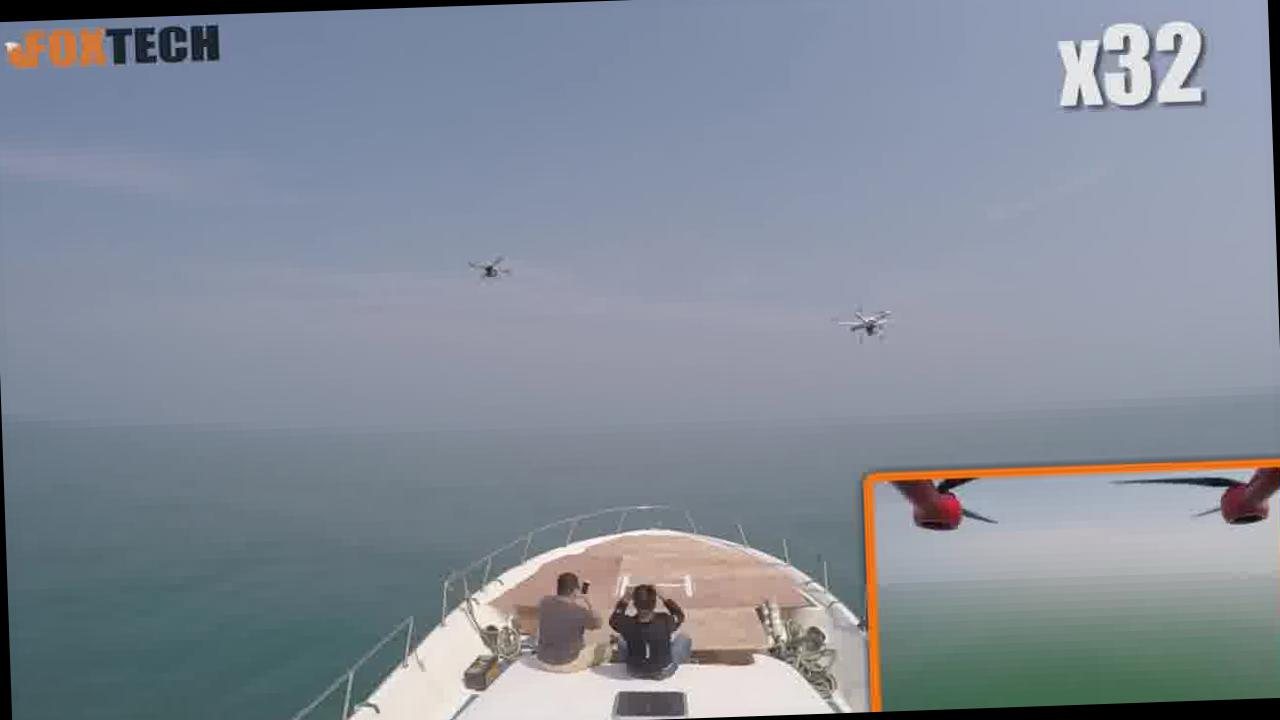drone: (821, 292, 905, 360), (459, 236, 522, 290)
